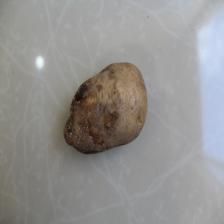Diseased-fungal potato: (63, 61, 148, 157)
